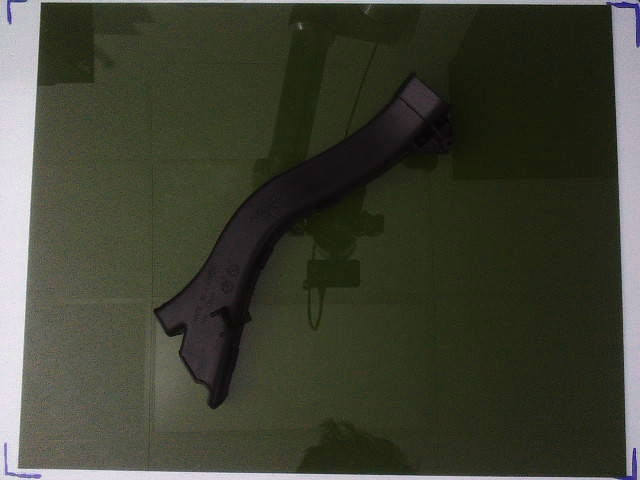887_A-Top: (154, 74, 453, 407)
